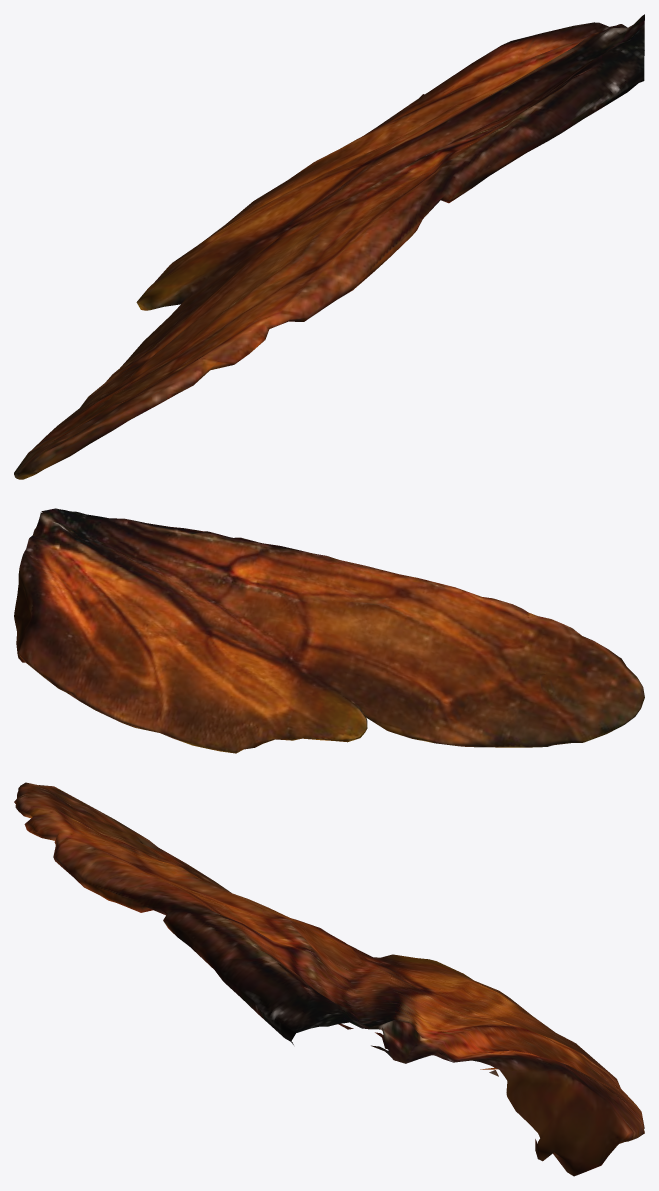
Rendered from flügel.glb.
The picture shows the model from 3 angles, top to bottom: view 1: azimuth 30°, elevation 25°; view 2: azimuth 150°, elevation 25°; view 3: azimuth 270°, elevation 25°; orthographic projection. The views are drawn at different scales.
Visible parts, largest first — view 1: Mesh_0.004; view 2: Mesh_0.004; view 3: Mesh_0.004.
Part boxes in pixels (x1,y1,x2,y2): Mesh_0.004: (14,14,644,479); Mesh_0.004: (14,508,644,753); Mesh_0.004: (14,782,644,1176).
Size of the model in its own units: 1.03 by 0.2988 by 0.5941.
1 material, 1 textured.
